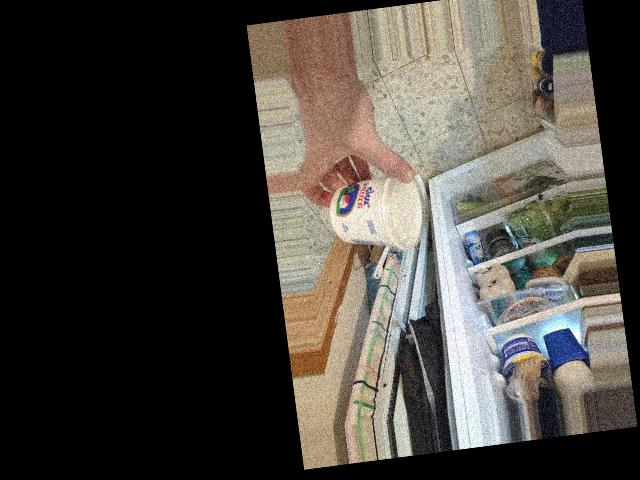cotage: (326, 172, 430, 254)
